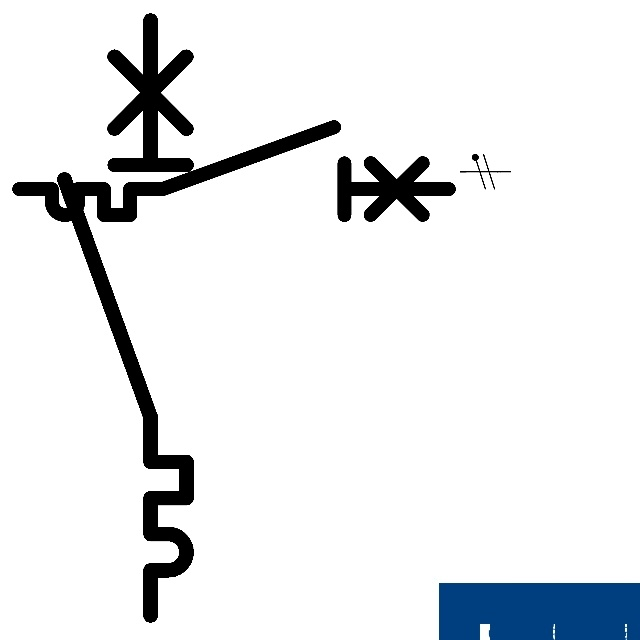interruptor_termomagnetico: (49, 5, 202, 631), (8, 116, 459, 226)
